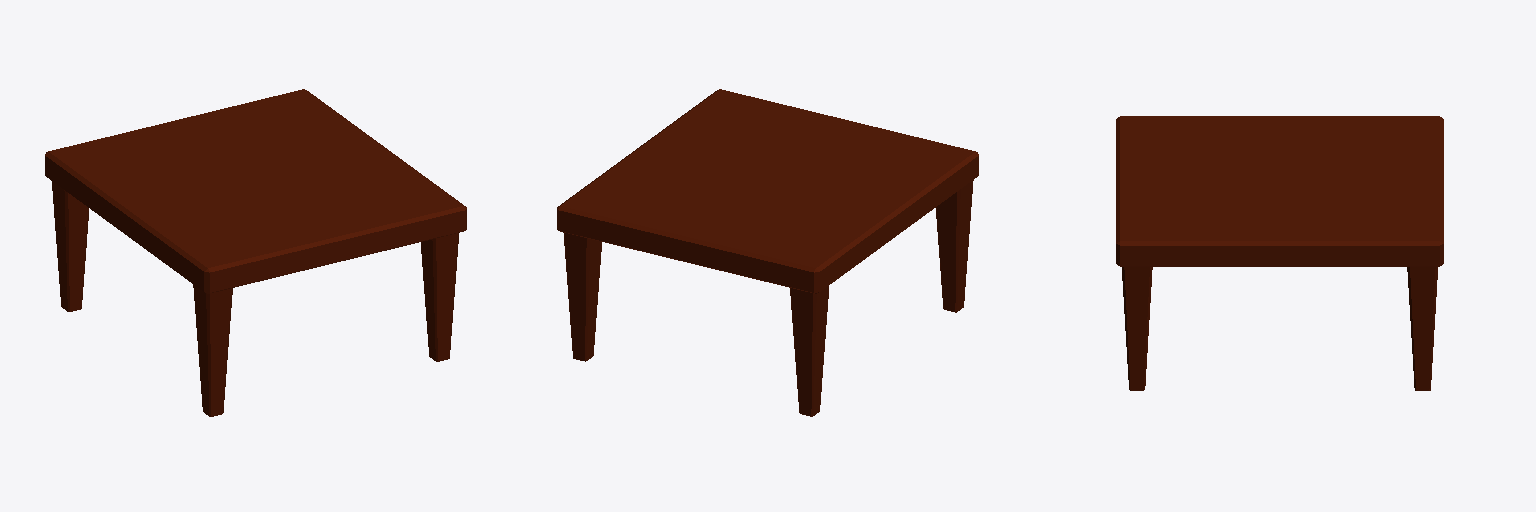
Rendered from Table3.obj.
3 views of the same model, side by side, from view 1: azimuth 30°, elevation 25°; view 2: azimuth 150°, elevation 25°; view 3: azimuth 270°, elevation 25° (orthographic).
Visible parts, largest first — view 1: Table_B_Cube.032; view 2: Table_B_Cube.032; view 3: Table_B_Cube.032.
Boxes of the visible parts, <box> form: Table_B_Cube.032: <box>45,89,466,416</box>; Table_B_Cube.032: <box>557,89,978,416</box>; Table_B_Cube.032: <box>1116,116,1443,390</box>.
Bounding box in the file's own units: 3.3 × 1.85 × 3.56.